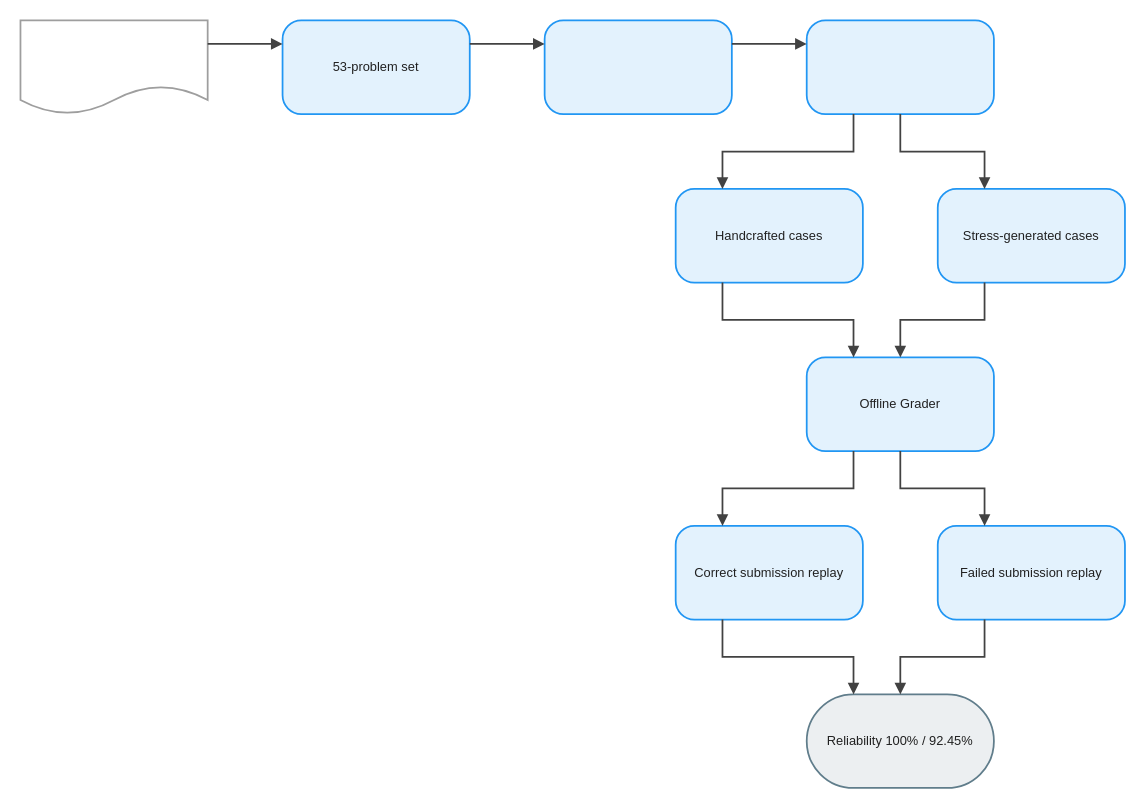
Image size: 1147x810. Some labels were removed from this diagram. Each missing label, with the centre of its shape:
Official Div.2: (113,66)
Random Large: (899,66)
Small Tests: (637,66)
